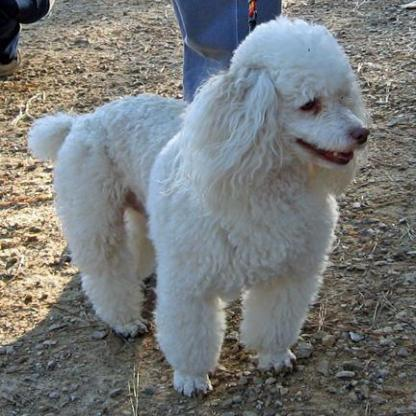miniature_poodle: (34, 20, 413, 413)
